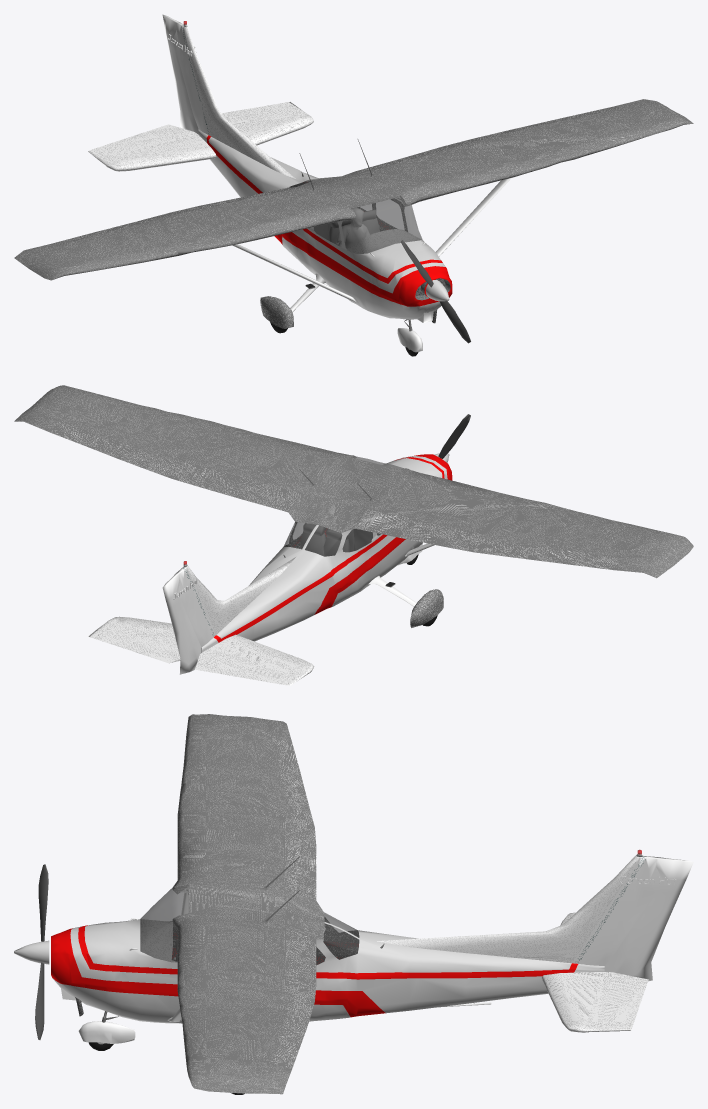
The model's file is cessna.dae.
3 renders of one model, top to bottom at view 1: azimuth 30°, elevation 25°; view 2: azimuth 150°, elevation 25°; view 3: azimuth 270°, elevation 25°, orthographic. The views are drawn at different scales.
Visible parts, largest first — view 1: Group5, Group2, Group4, Group9, Group3, ske2A3, Group_15, Group1, Group18, Group15, _3D_Man_seated_crossedleg, Group10; view 2: Group5, Group2, Group4, Group3, Group15, Group_15, Group6, Group7, Group11, Group1; view 3: Group5, Group2, Group3, Group9, Group1, ske2A3, Group18, Group7.
Boxes of the visible parts, x1,y1,x2,y2 form: Group5: (14,99,693,319); Group2: (162,14,295,178); Group4: (88,124,216,171); Group9: (341,195,422,253); Group3: (221,102,313,145); ske2A3: (183,21,511,356); Group_15: (260,273,325,333); Group1: (401,240,470,343); Group18: (346,229,421,253); Group15: (308,210,379,245); _3D_Man_seated_crossedleg: (336,207,369,249); Group10: (376,200,404,229); Group5: (14,385,693,652); Group2: (162,557,295,674); Group4: (195,634,314,685); Group3: (88,616,180,663); Group15: (300,523,380,556); Group_15: (368,576,443,628); Group6: (305,525,342,556); Group7: (283,522,315,549); Group11: (342,528,372,552); Group1: (434,414,470,462); Group5: (51,714,604,1094); Group2: (376,855,693,981); Group3: (541,972,648,1032); Group9: (140,884,188,962); Group1: (14,864,49,1039); ske2A3: (78,849,642,1050); Group18: (140,919,177,962); Group7: (323,923,359,959).
Size of the model in its own units: 11.03 by 8.48 by 2.76.
